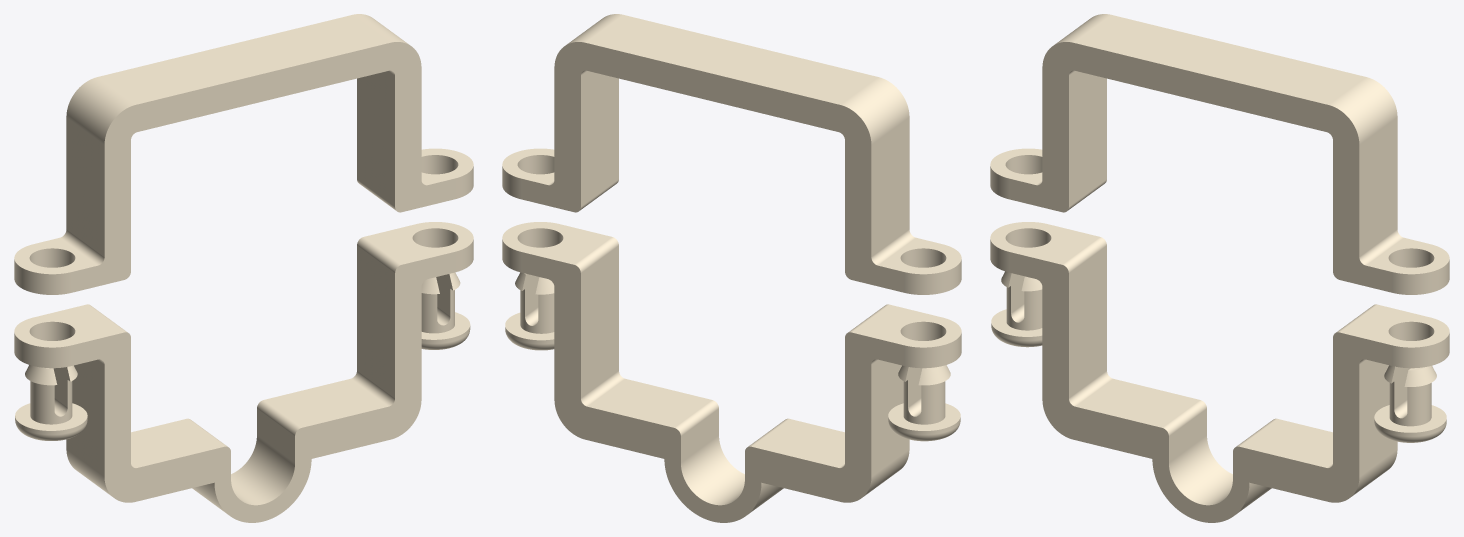
The model's file is gold_bracket_for_website.glb.
3 renders of one model, left to right at view 1: azimuth 30°, elevation 25°; view 2: azimuth 150°, elevation 25°; view 3: azimuth 330°, elevation 25°, orthographic.
Visible parts, largest first — view 1: Half2; view 2: Half2; view 3: Half2.
Boxes of the visible parts, x1,y1,x2,y2 form: Half2: (14,14,473,522); Half2: (502,14,961,522); Half2: (990,14,1449,522).
Bounding box in the file's own units: 68 × 64.8 × 10.
